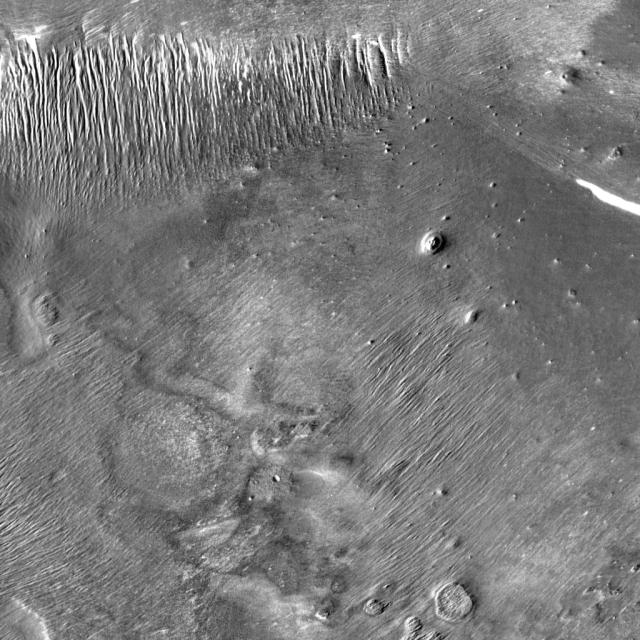crater: (435, 583, 473, 623), (364, 600, 384, 618), (180, 258, 192, 268), (576, 49, 586, 58), (186, 260, 195, 269), (273, 475, 281, 482), (251, 253, 258, 258), (272, 622, 277, 626), (563, 74, 568, 78)
